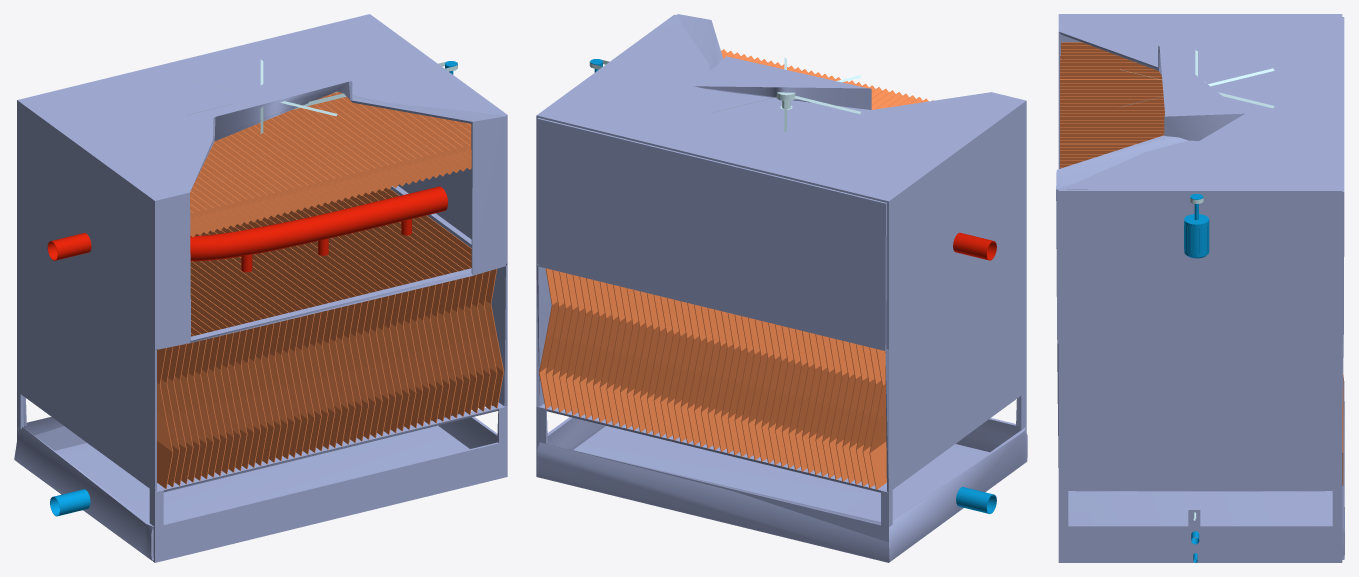
The model's file is ew-cooling-tower.lod0.glb.
3 views of the same model, side by side, from view 1: azimuth 30°, elevation 25°; view 2: azimuth 150°, elevation 25°; view 3: azimuth 270°, elevation 25° (orthographic). The views are drawn at different scales.
Parts seen in each view (by area): view 1: Plane.001_0, Plane_0, Cylinder_0; view 2: Plane.001_0, Plane_0, Cylinder_0; view 3: Plane.001_0, Plane_0.
Boxes of the visible parts, left/top/right/bottom form: Plane.001_0: left=14, top=14, right=507, bottom=562; Plane_0: left=157, top=92, right=503, bottom=488; Cylinder_0: left=47, top=186, right=448, bottom=272; Plane.001_0: left=536, top=14, right=1027, bottom=562; Plane_0: left=539, top=49, right=933, bottom=489; Cylinder_0: left=953, top=232, right=996, bottom=260; Plane.001_0: left=1056, top=14, right=1344, bottom=562; Plane_0: left=1060, top=42, right=1343, bottom=485.
Bounding box in the file's own units: 13.36 × 12 × 7.97.
